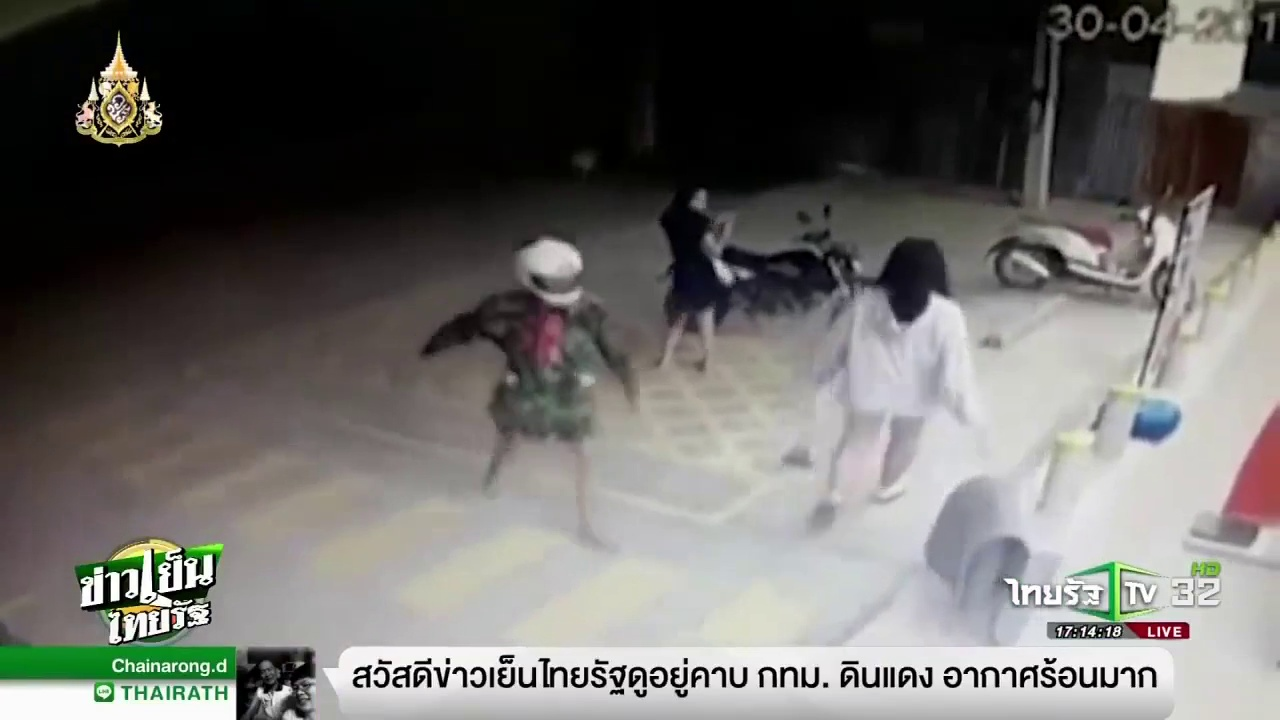helmet: (506, 230, 594, 308)
